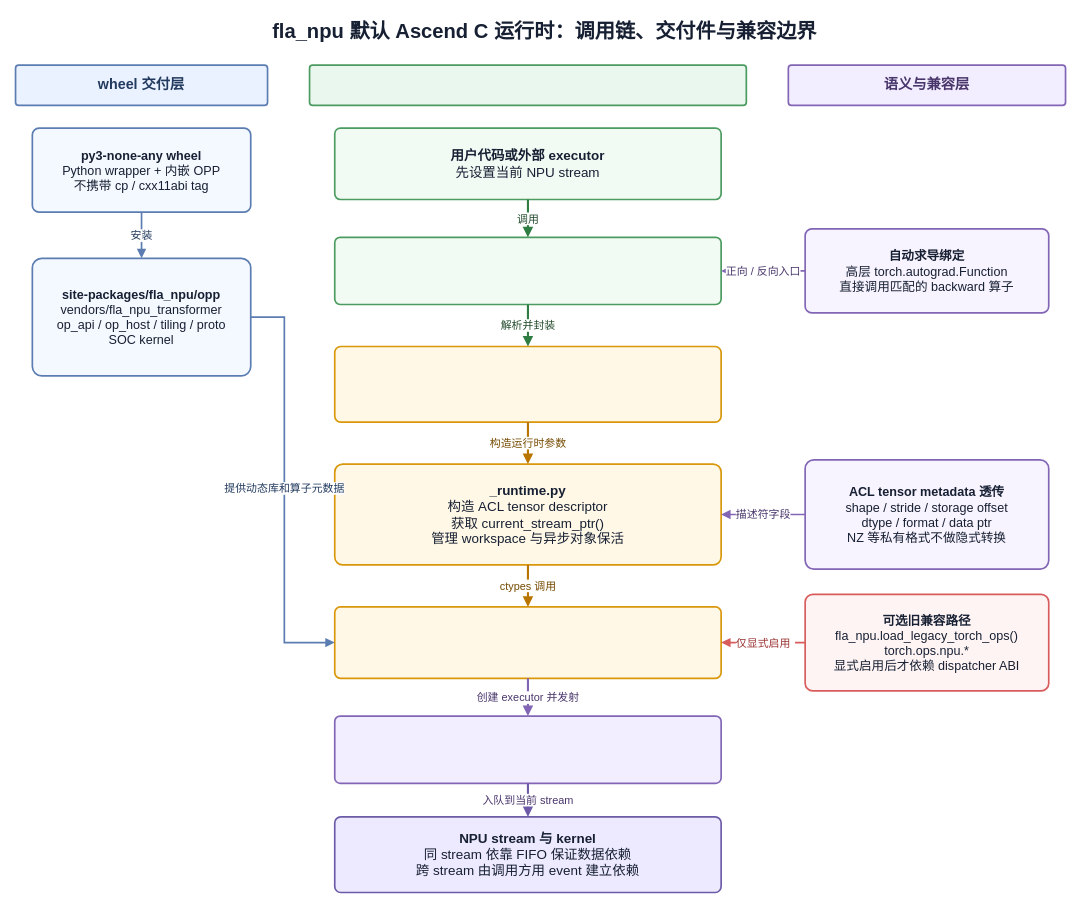
The diagram is 1080 pixels wide and 907 high, and some of its shapes have lost their labels. The shapes that lost their labels are listed below. From the top down, each one's centre as x and y in pixels, then its label:
At (527,85): "默认调用链（自上而下）".
At (527,270): "fla_npu.ops.ascendc.<op> 稳定公开接口".
At (527,384): "_aclnn_ctypes.py 单算子 ABI wrapper；校验参数并分配输出 tensor".
At (527,642): "libcust_opapi.so aclnn*GetWorkspaceSize / aclnn*".
At (527,749): "CANN ACLNN executor 使用传入的 ACL tensor descriptor 与 stream".
